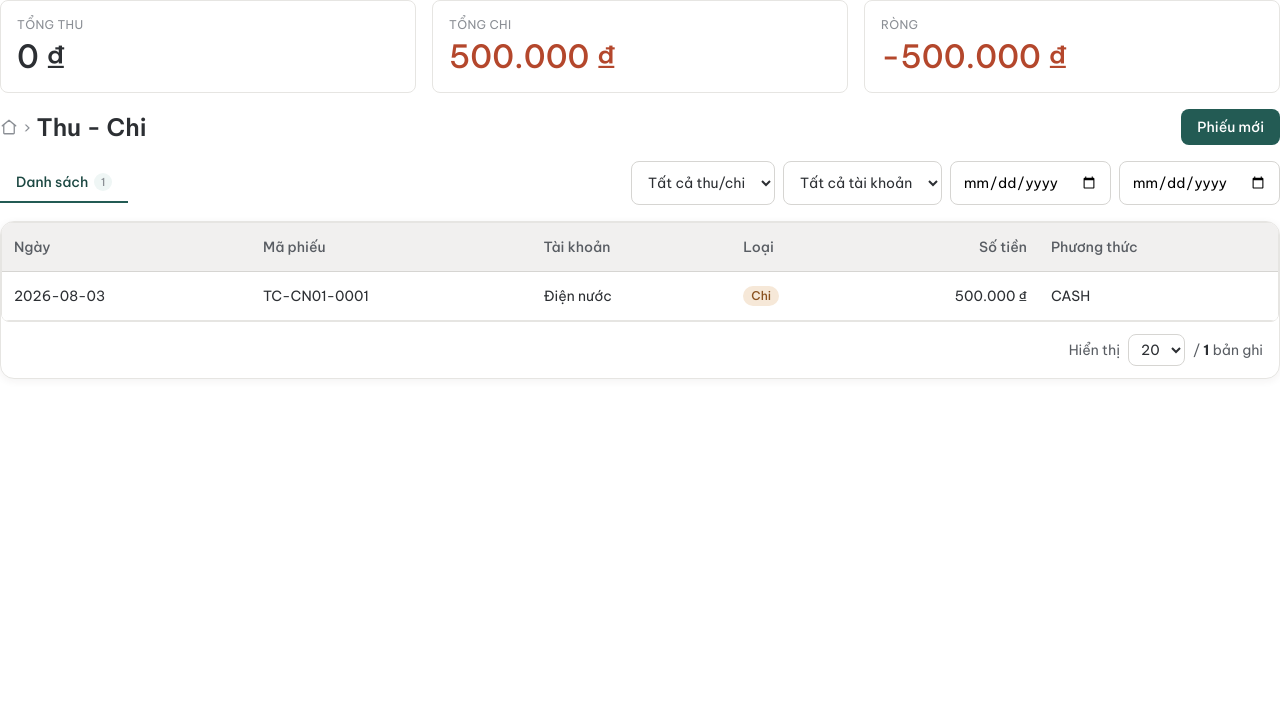
Test: FinancePage › reveals manager PIN fields when the amount exceeds the account threshold
Expected: the text "TC-CN01-0001" is shown, [251, 271, 531, 321]
Click the button "Phiếu mới": click(1231, 127) [1181, 109, 1279, 145]
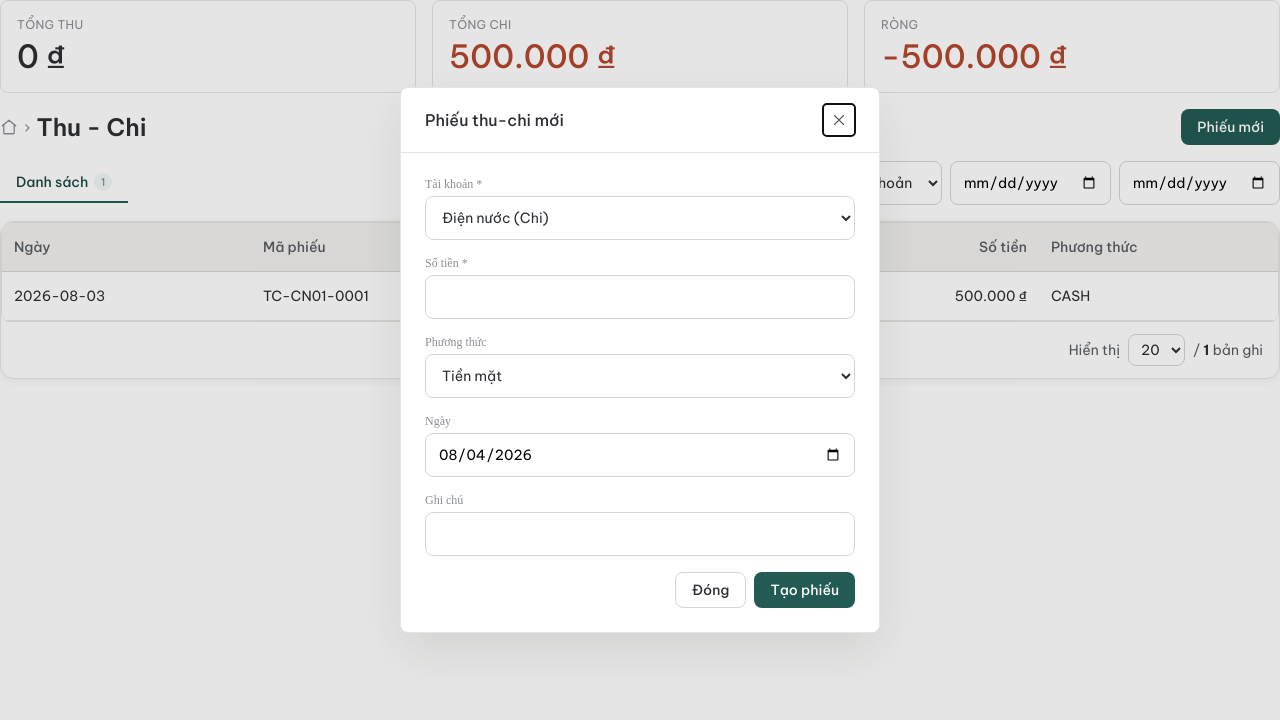
Now the number field labelled "Số tiền" is shown, box [425, 275, 855, 319]
Select "Điện nước (Chi)" in the dropdown named "Tài khoản phiếu": (640, 218) [425, 196, 855, 240]
In the number field labelled "Số tiền": (640, 297) [425, 275, 855, 319], type "2000000"
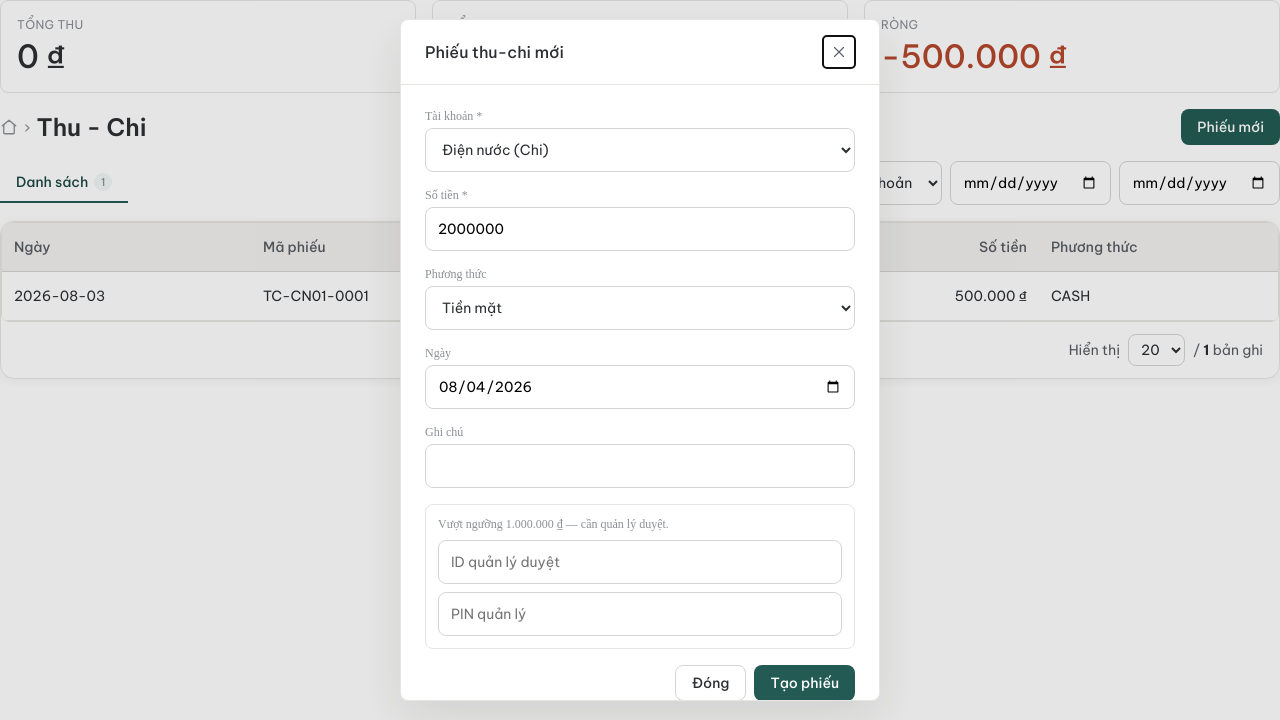
Now the password field labelled "PIN quản lý" is shown, box [438, 592, 842, 636]
